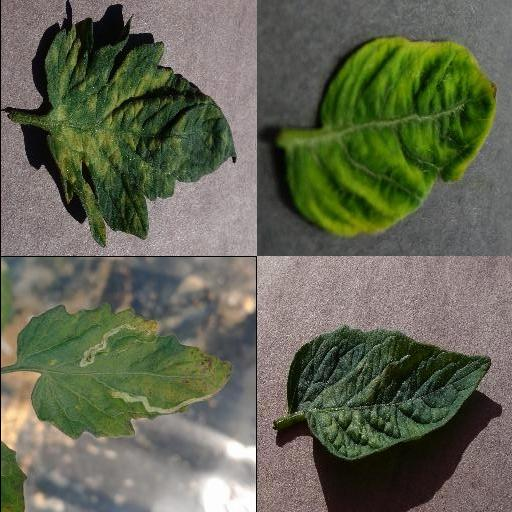Leaf Miner: (15, 300, 233, 442)
Leaf Mold: (43, 16, 237, 248)
Spider Mites: (285, 328, 493, 459)
Yellow Leaf Curl Virus: (285, 38, 499, 238)
